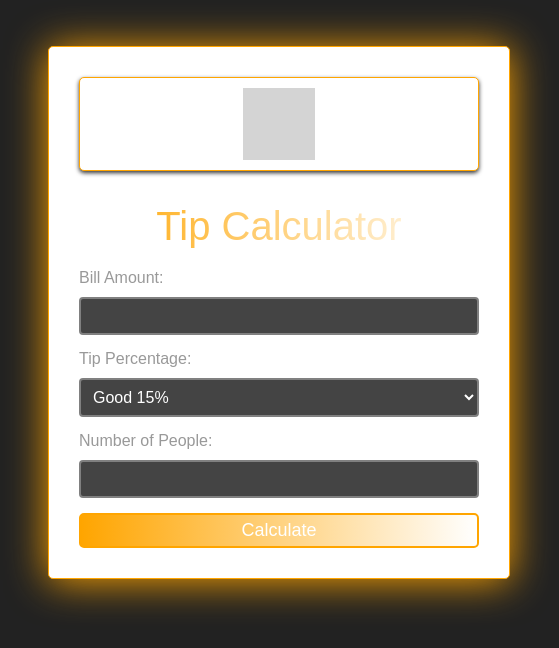
Test: TipCalculator › 2. Displays error for zero bill amount
Type "0" into the number field labelled "Bill Amount:" at (279, 316), box [79,297,479,335]
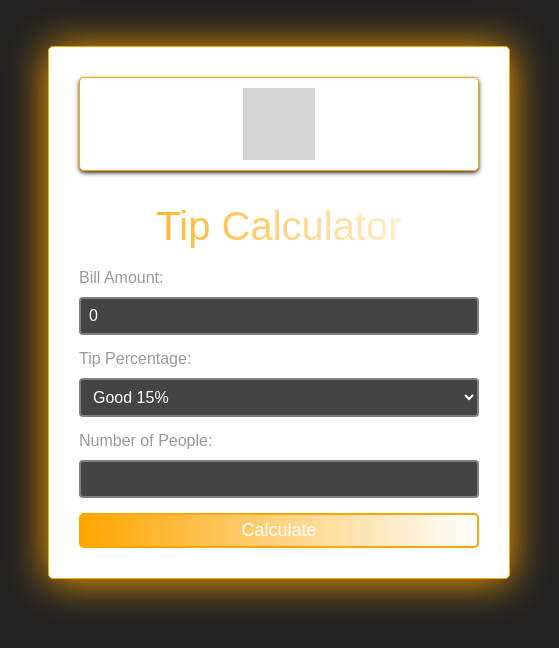
Select "Good 15%" in the dropdown labelled "Tip Percentage:" at (279, 398), box [79,378,479,417]
Type "2" into the number field labelled "Number of People:" at (279, 479), box [79,460,479,498]
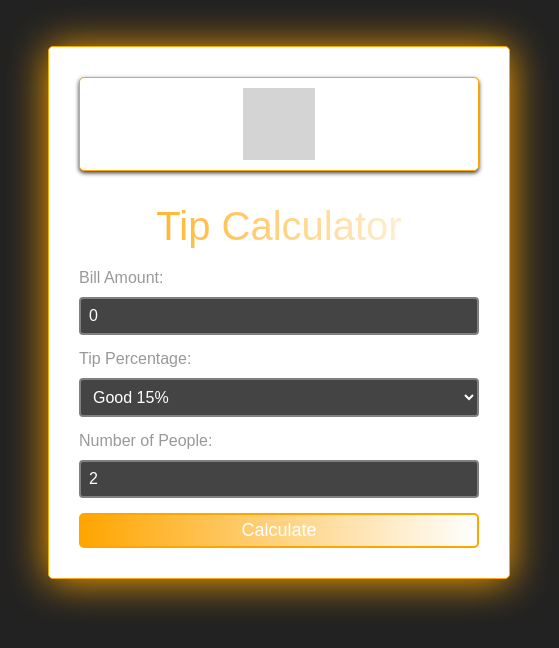
Click the button "Calculate" at (279, 531), box [79,513,479,548]
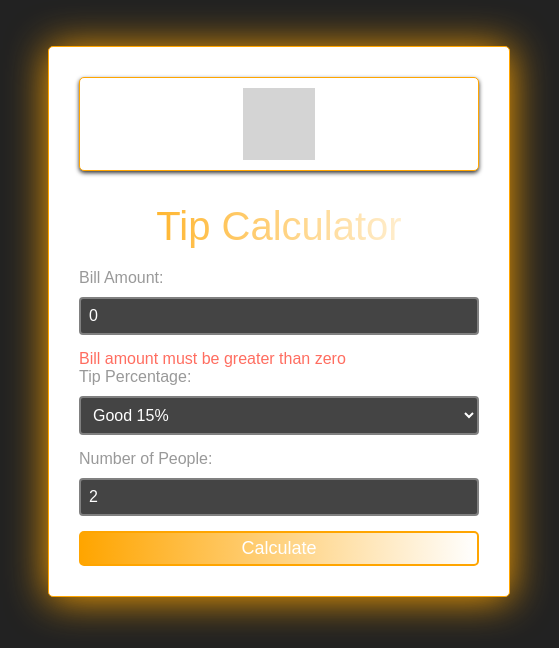
Check: the text "Bill amount must be greater than zero" is shown, box [79,350,346,367]
